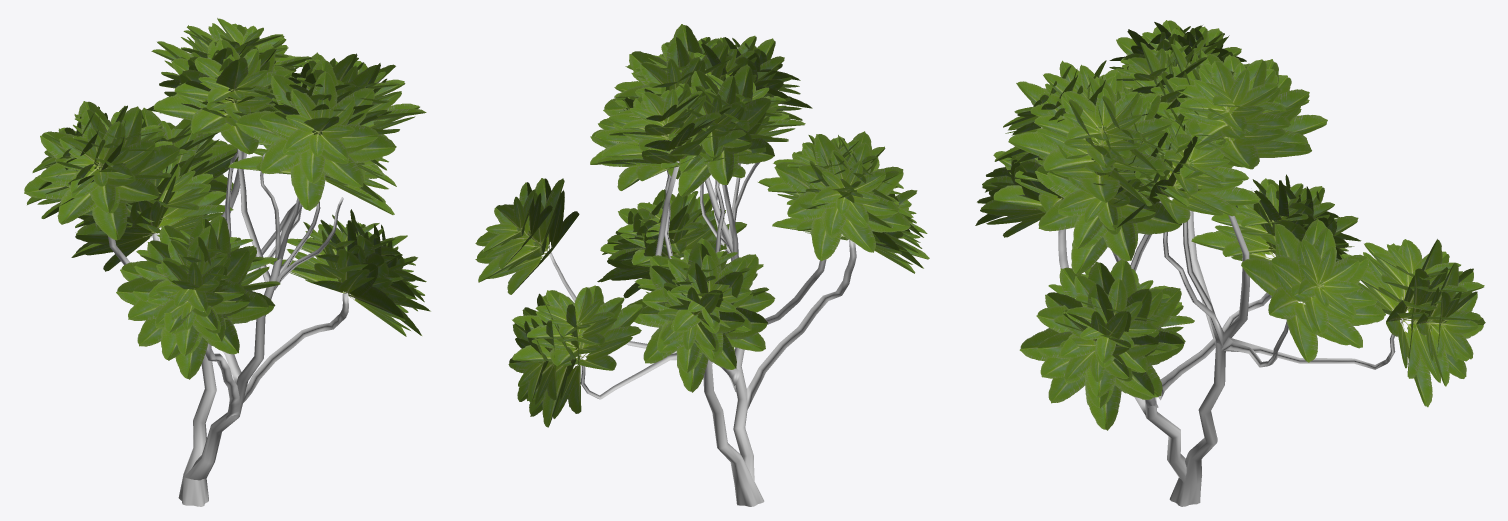
Rendered from champa3.fbx.
3 renders of one model, left to right at view 1: azimuth 30°, elevation 25°; view 2: azimuth 150°, elevation 25°; view 3: azimuth 270°, elevation 25°, orthographic. The views are drawn at different scales.
Parts seen in each view (by area): view 1: champa_LOD0; view 2: champa_LOD0; view 3: champa_LOD0.
Boxes of the visible parts, x1,y1,x2,y2 form: champa_LOD0: [24, 18, 430, 506]; champa_LOD0: [475, 24, 929, 506]; champa_LOD0: [975, 20, 1485, 506].
Size of what is drawn, in the model's own units: 414 by 436 by 435.
